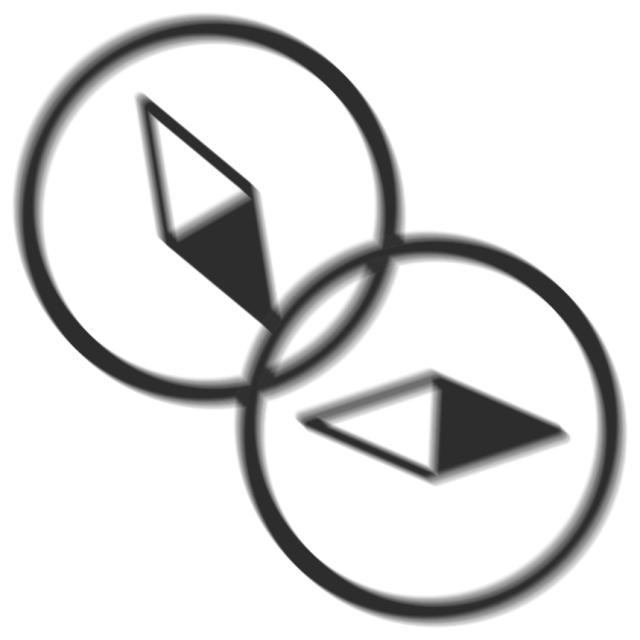compass: (7, 11, 423, 425), (229, 229, 626, 636)
